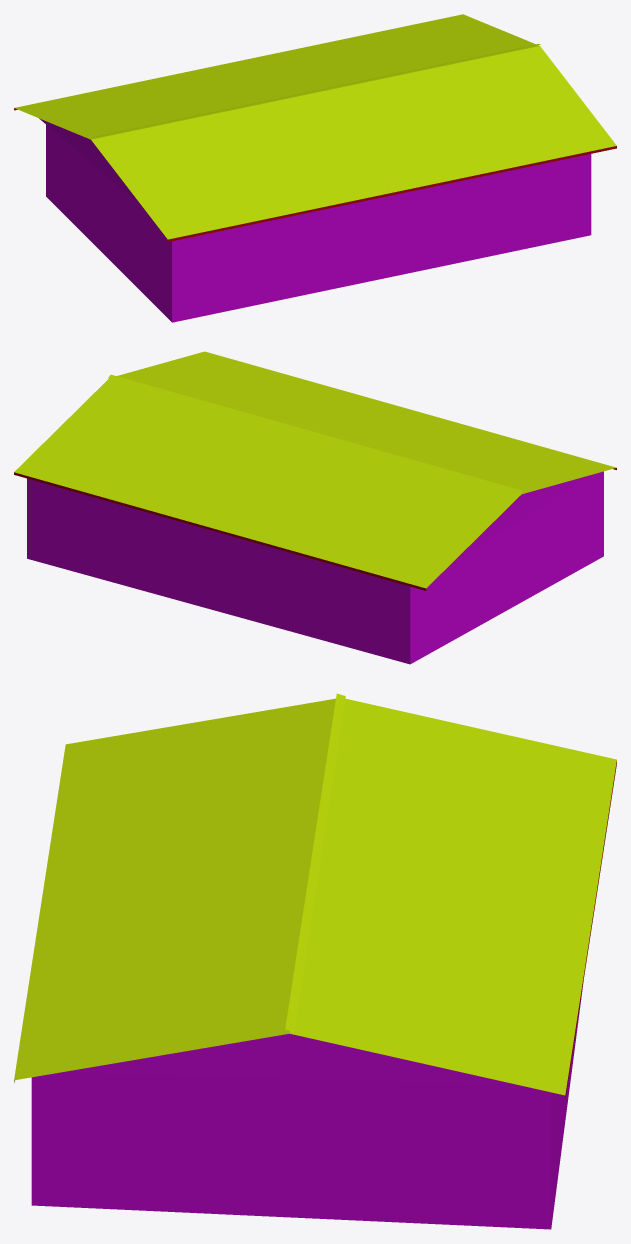
Rendered from ssv_107.glb.
3 views of the same model, one above another, from view 1: azimuth 30°, elevation 25°; view 2: azimuth 150°, elevation 25°; view 3: azimuth 270°, elevation 25° (orthographic). The views are drawn at different scales.
Visible parts, largest first — view 1: ssv_107; view 2: ssv_107; view 3: ssv_107.
Part boxes in pixels (x1,y1,x2,y2): ssv_107: (14,14,616,322); ssv_107: (14,351,616,664); ssv_107: (14,693,616,1229).
Size of the model in its own units: 22.02 by 5.82 by 15.98.
